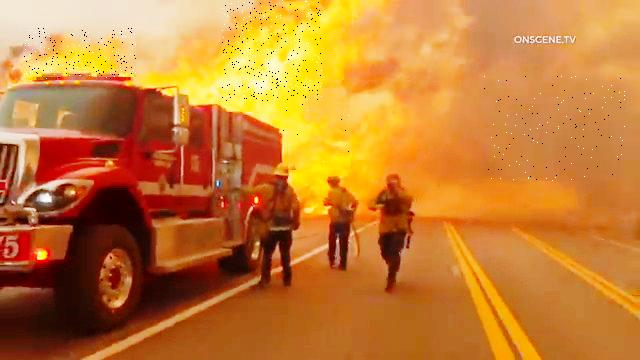fire: (222, 0, 322, 101), (23, 29, 136, 80), (283, 100, 350, 170)
smoke: (484, 76, 625, 181)
